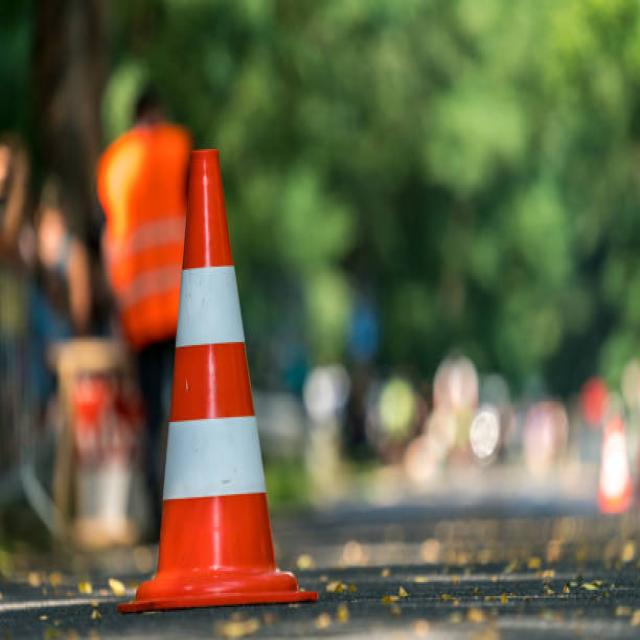Traffic Cone: (104, 107, 333, 628)
